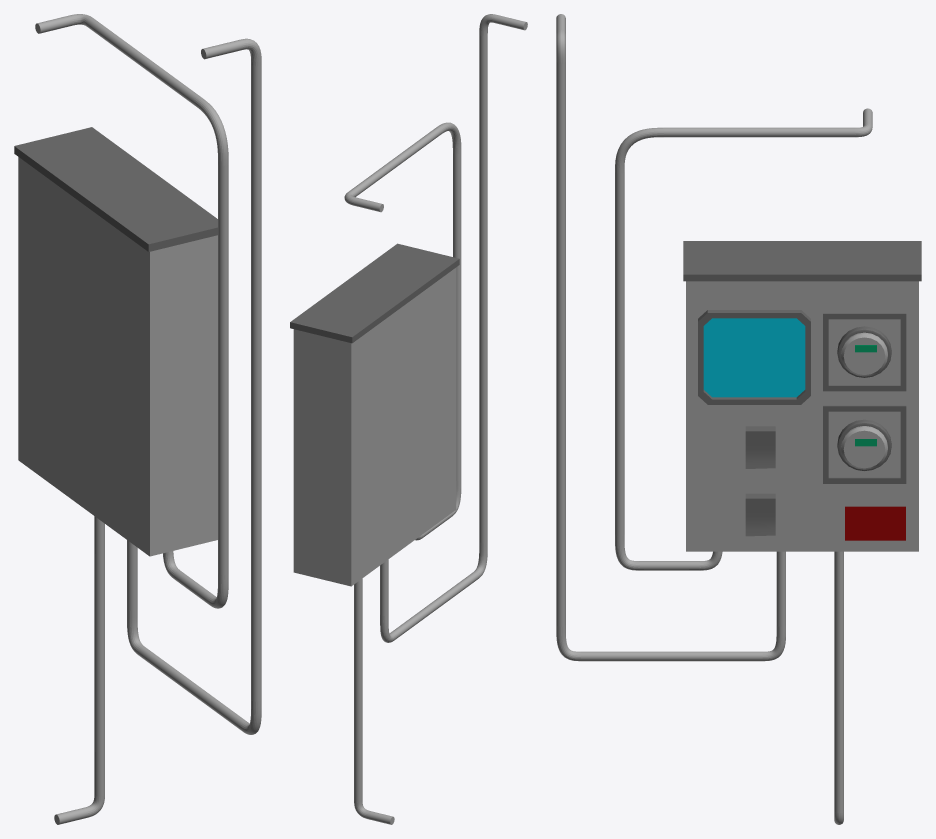
The model's file is boitier robot.fbx.
3 views of the same model, side by side, from view 1: azimuth 30°, elevation 25°; view 2: azimuth 150°, elevation 25°; view 3: azimuth 270°, elevation 25° (orthographic). The views are drawn at different scales.
Visible parts, largest first — view 1: boitier_robot; view 2: boitier_robot; view 3: boitier_robot.
Part boxes in pixels (<box>): boitier_robot: <box>14,14,261,824</box>; boitier_robot: <box>290,14,527,824</box>; boitier_robot: <box>556,14,921,824</box>.
Size of the model in its own units: 0.237 by 1.94 by 0.8101.
